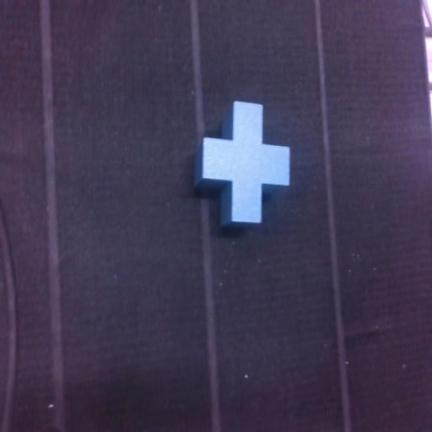cross: (195, 102, 290, 225), (194, 102, 289, 225)
